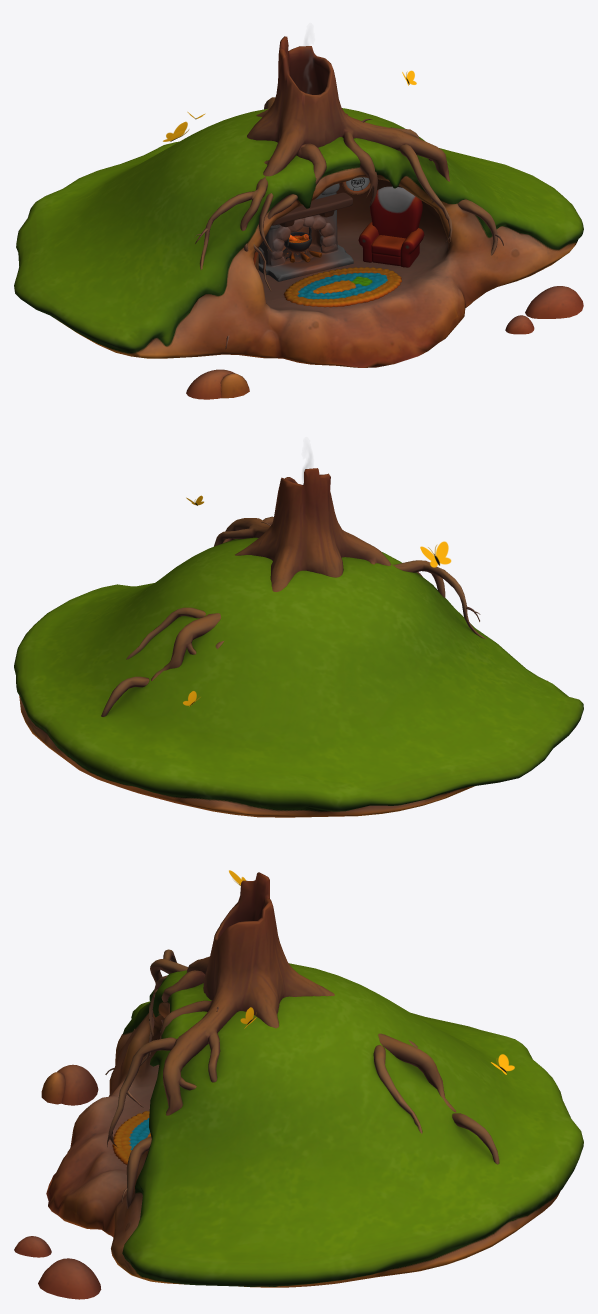
Rendered from ttt.glb.
3 renders of one model, top to bottom at view 1: azimuth 30°, elevation 25°; view 2: azimuth 150°, elevation 25°; view 3: azimuth 270°, elevation 25°, orthographic. The views are drawn at different scales.
Visible parts, largest first — view 1: polySurface17, polySurface18; view 2: polySurface17, polySurface18; view 3: polySurface17, polySurface18.
Part boxes in pixels (<box>): polySurface17: <box>14,46,583,399</box>; polySurface18: <box>200,36,497,291</box>; polySurface17: <box>14,461,583,817</box>; polySurface18: <box>214,468,486,639</box>; polySurface17: <box>14,870,583,1299</box>; polySurface18: <box>107,872,334,1208</box>.
Bounding box in the file's own units: 32.16 × 17.51 × 26.7.
Materials: 3 (2 with a texture image).
